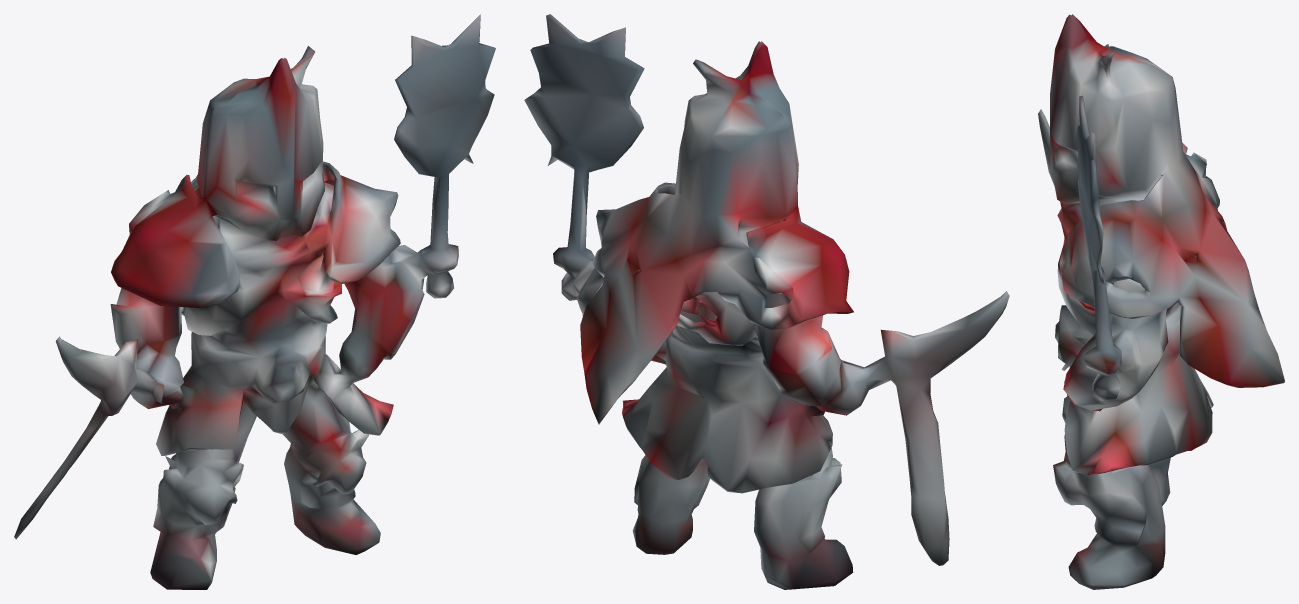
File: h_demir.glb
3 views of the same model, side by side, from view 1: azimuth 30°, elevation 25°; view 2: azimuth 150°, elevation 25°; view 3: azimuth 270°, elevation 25° (orthographic). The views are drawn at different scales.
Visible parts, largest first — view 1: geometry_0; view 2: geometry_0; view 3: geometry_0.
Part boxes in pixels (<box>): geometry_0: <box>14,14,495,589</box>; geometry_0: <box>524,14,1009,589</box>; geometry_0: <box>1038,14,1284,589</box>.
Size of the model in its own units: 0.9499 by 1 by 0.4261.
